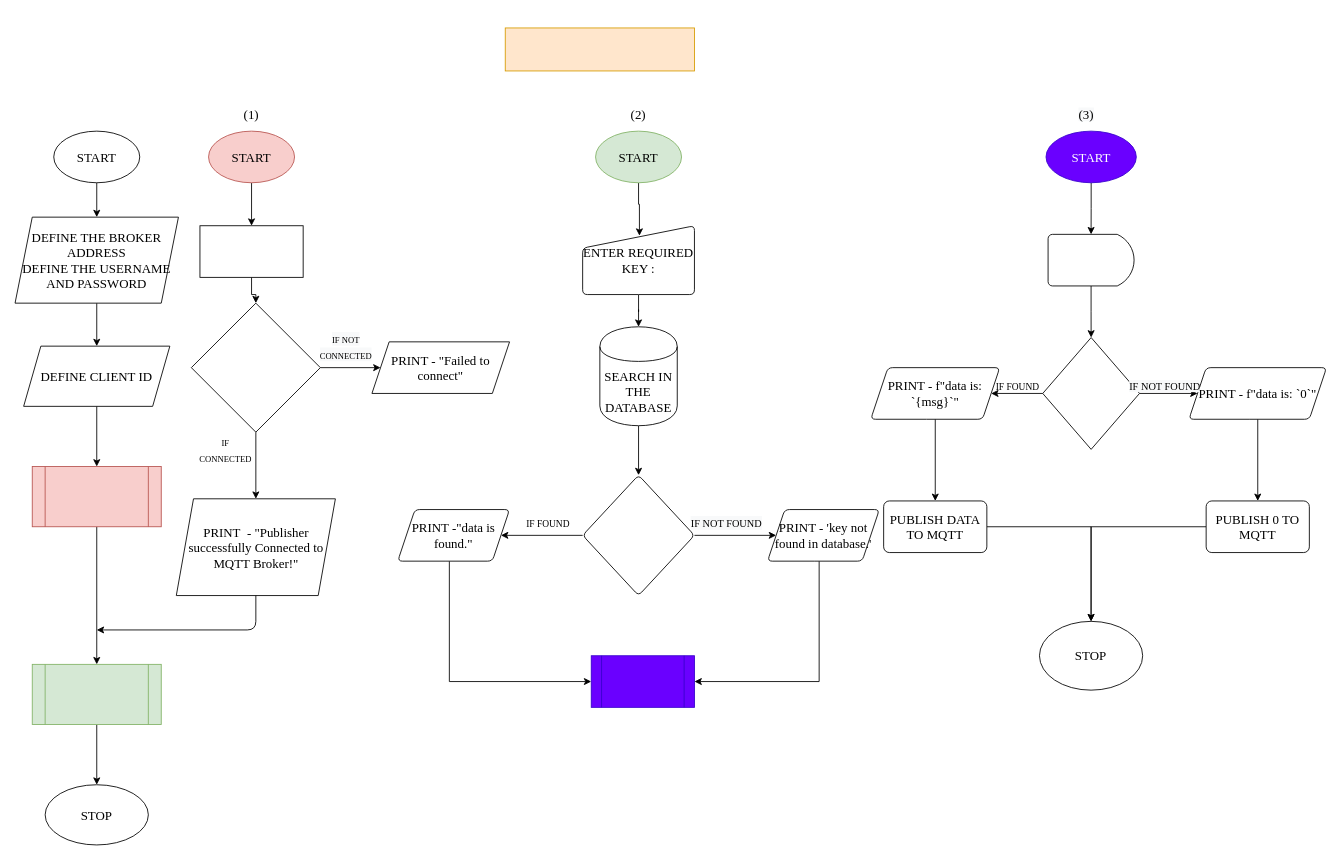
Some shapes in this 1342 by 860 pixel diagram are drawn without their labels. The box of each missing label's shape, as (x1, y1, x2, y2) in pixels:
CONNECT WITH MQTT FUNCTION (1): (31, 466, 161, 527)
DATA FOUNDED OR NOT?: (1042, 337, 1140, 449)
DELAY FOR 2.05 SEC: (1047, 233, 1134, 286)
IS MQTT CONNECTED WITH BROKER: (190, 302, 320, 432)
PUBLISH FUNCTION (3): (590, 655, 694, 707)
PYTHON SCRIPT: (504, 27, 694, 71)
RUN FUNCTION (2): (31, 663, 161, 725)
THE KEY IS FOUND OR NOT?: (582, 474, 694, 596)
TRY TO CONNECT TO MQTT BROKER: (199, 225, 303, 277)
